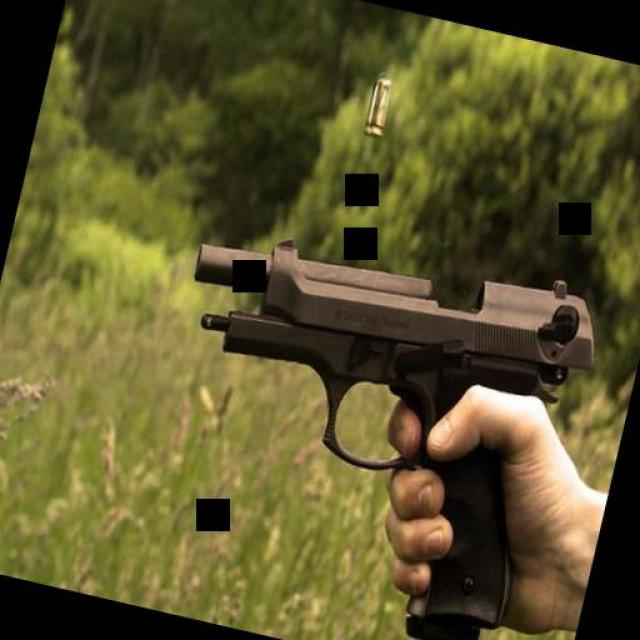gun: (122, 197, 611, 640)
